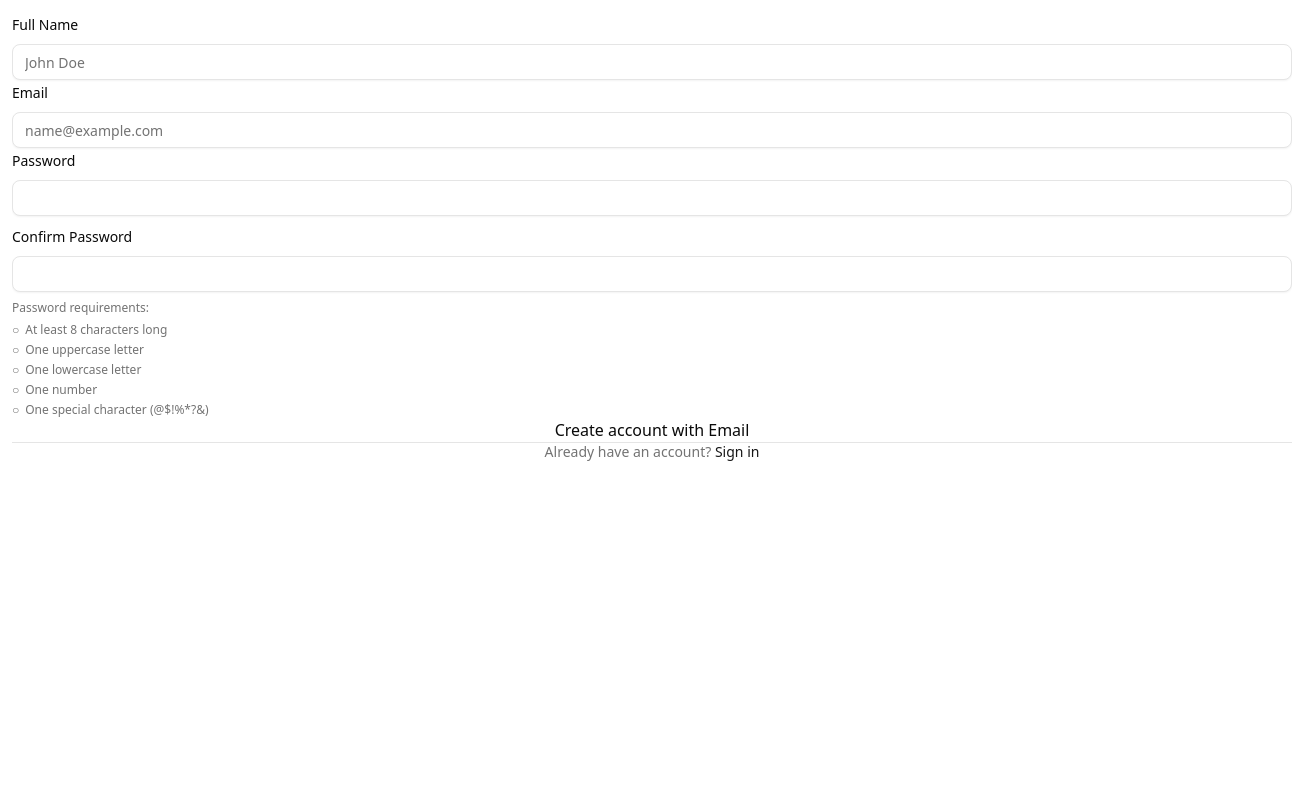
Test case: RegisterForm › prevents submission with invalid data
Fill in invalid data
In the field with test id "register-fullname-input": (652, 62) [12,44,1292,80], type "A"
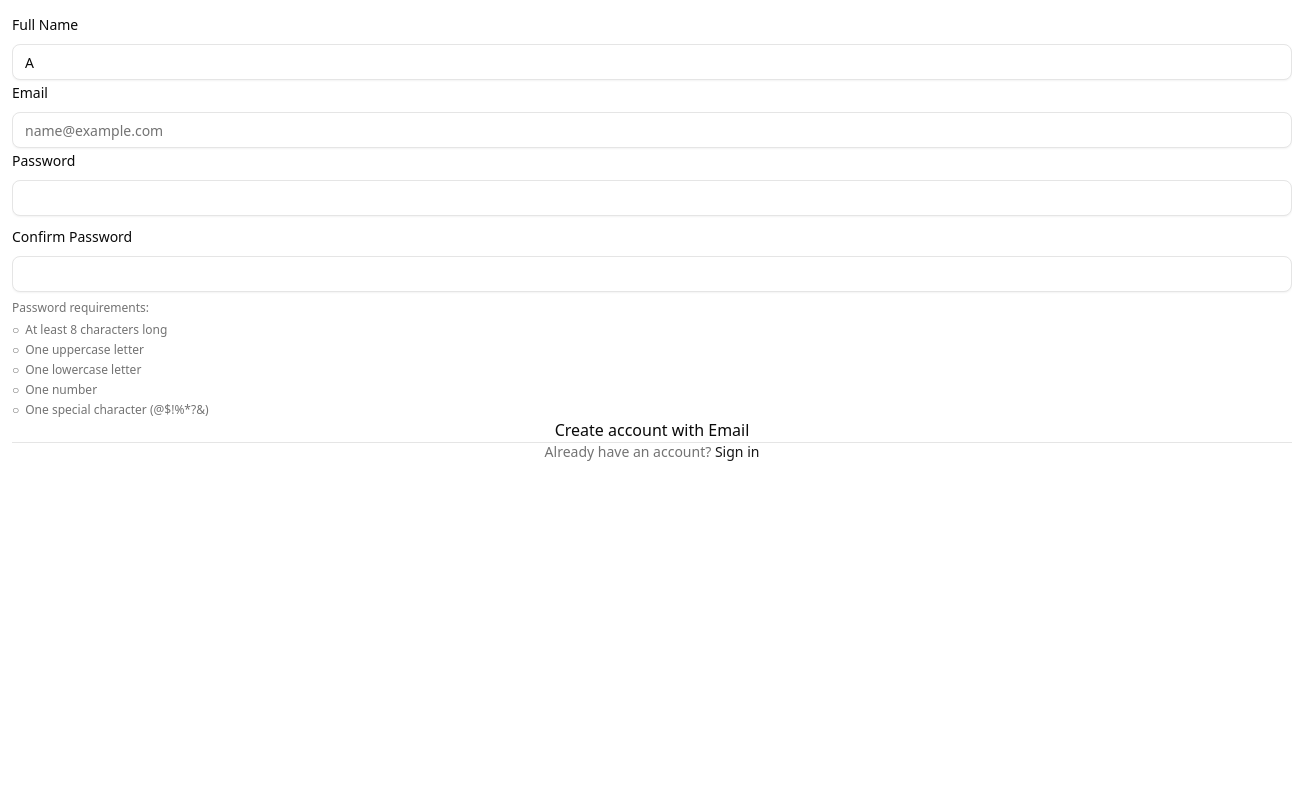
In the field with test id "register-email-input": (652, 130) [12,112,1292,148], type "invalid-email"
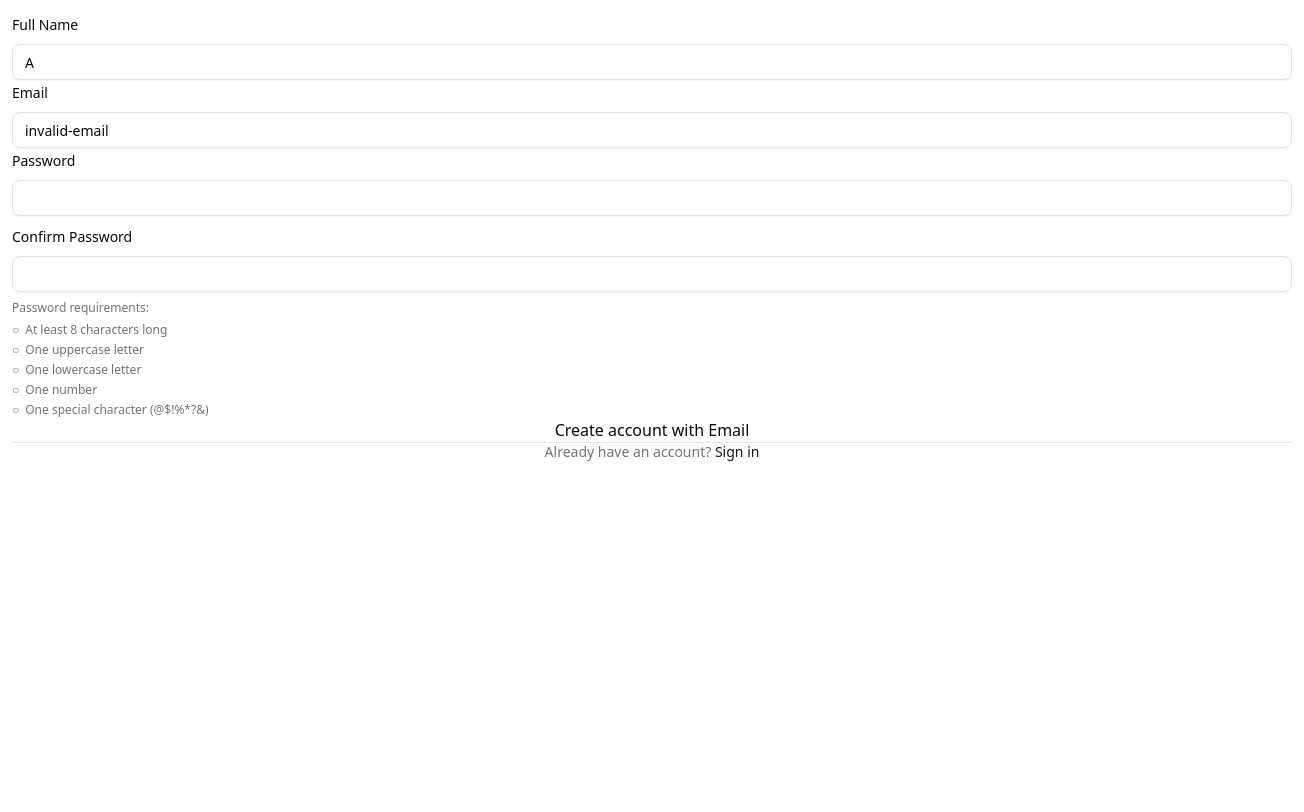
In the password field with test id "register-password-input": (652, 198) [12,180,1292,216], type "weak"
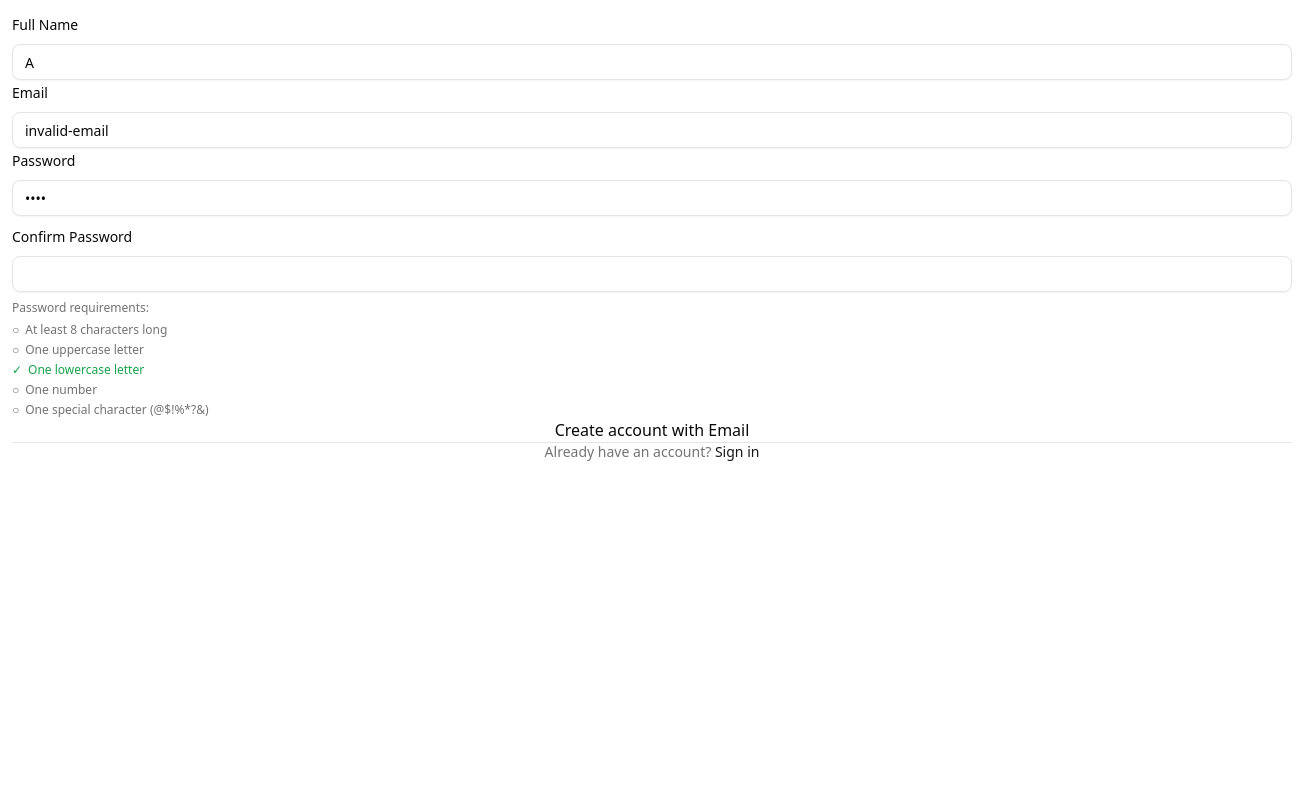
In the password field with test id "register-confirm-password-input": (652, 274) [12,256,1292,292], type "different"
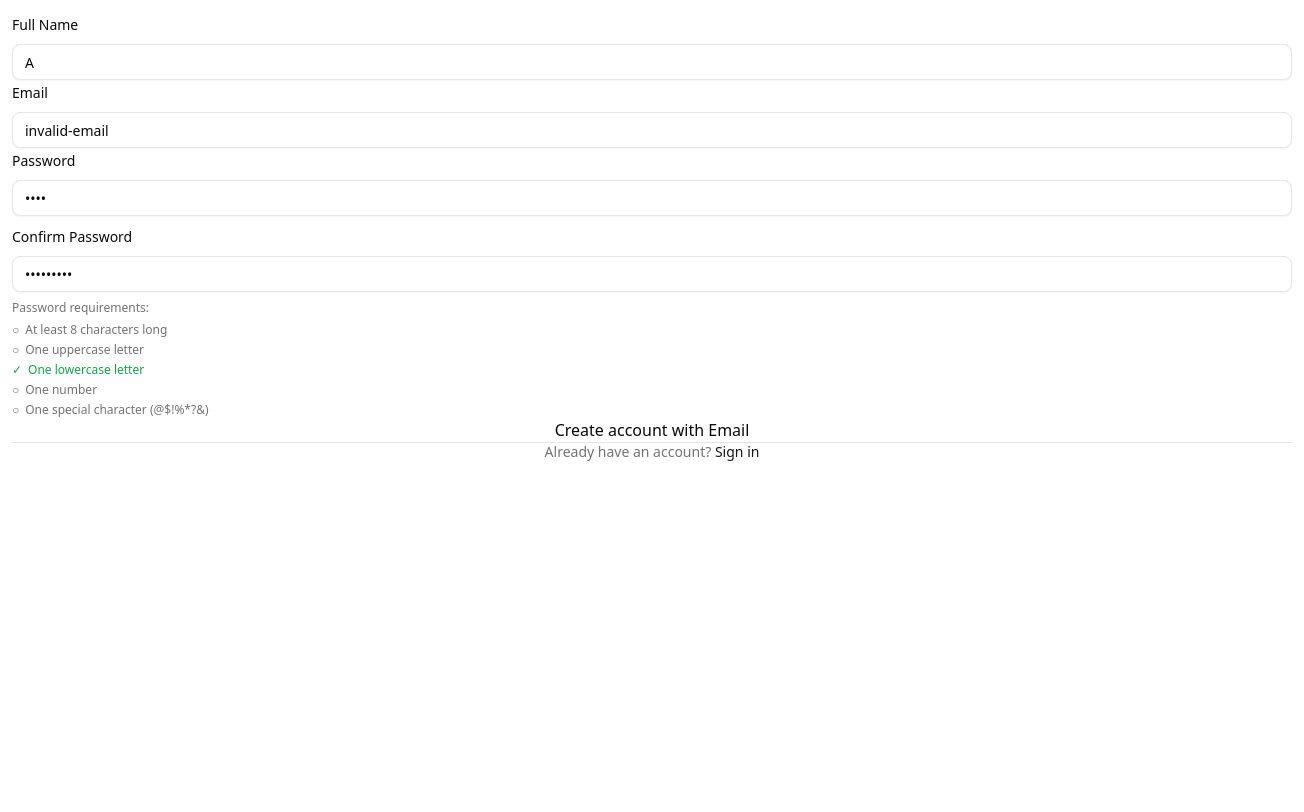
Submit form
Click the button with test id "register-submit-button": click(652, 430) [12,418,1292,442]
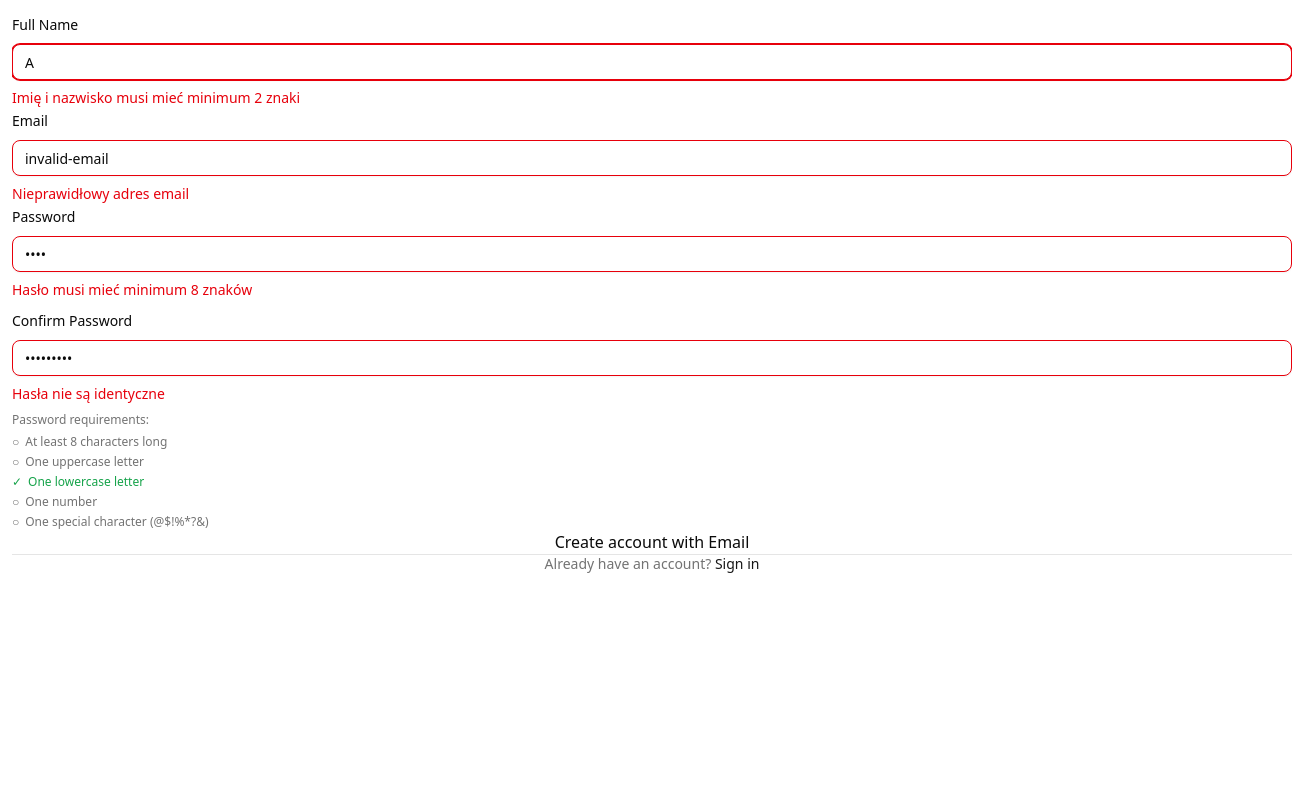
Check: the text "Imię i nazwisko musi mieć minimum 2 znaki" is shown, box [12,88,300,107]
Check: the text "Nieprawidłowy adres email" is shown, box [12,184,189,203]
Check: the text "Hasło musi mieć minimum 8 znaków" is shown, box [12,280,252,299]
